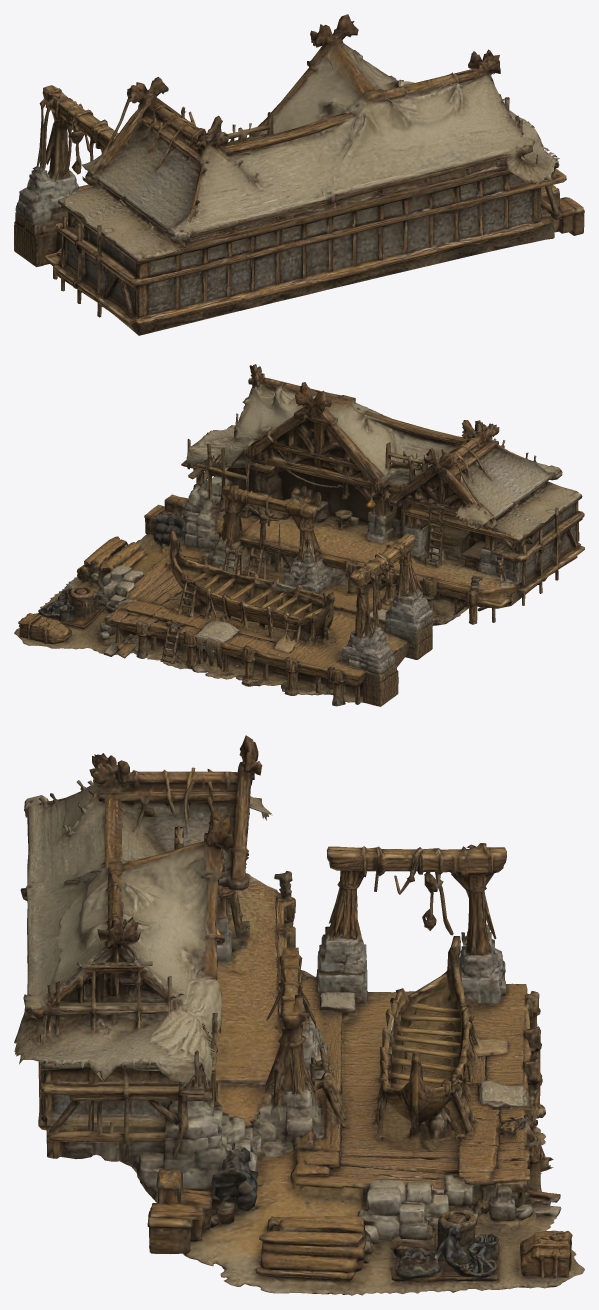
The model's file is tripo_convert_7325b846-182c-41b8-be20-44e042cbb50f.fbx.
3 renders of one model, top to bottom at view 1: azimuth 30°, elevation 25°; view 2: azimuth 150°, elevation 25°; view 3: azimuth 270°, elevation 25°, orthographic. The views are drawn at different scales.
Parts seen in each view (by area): view 1: tripo_node_7325b846; view 2: tripo_node_7325b846; view 3: tripo_node_7325b846.
Boxes of the visible parts, <box> form: tripo_node_7325b846: <box>14,14,584,335</box>; tripo_node_7325b846: <box>14,364,584,706</box>; tripo_node_7325b846: <box>14,735,584,1295</box>.
Size of the model in its own units: 0.9832 by 0.4793 by 0.7437.
1 material, 1 textured.
